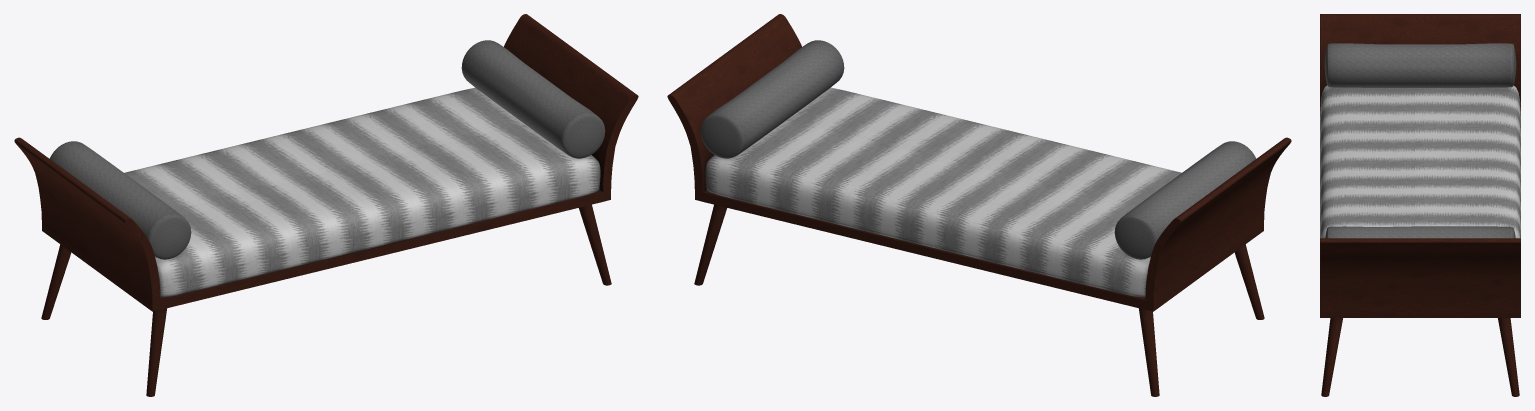
The model's file is sofa_3.glb.
3 views of the same model, side by side, from view 1: azimuth 30°, elevation 25°; view 2: azimuth 150°, elevation 25°; view 3: azimuth 270°, elevation 25° (orthographic). The views are drawn at different scales.
Visible parts, largest first — view 1: Cube.002, Cube.001, Cylinder, Cylinder.001; view 2: Cube.002, Cube.001, Cylinder, Cylinder.001; view 3: Cube.002, Cube.001, Cylinder, Cylinder.001.
Part boxes in pixels (x1,y1,x2,y2): Cube.002: (124,87,600,297); Cube.001: (14,14,638,311); Cylinder: (49,40,605,259); Cylinder.001: (41,204,611,396); Cube.002: (705,87,1181,297); Cube.001: (667,14,1291,311); Cylinder: (700,40,1256,259); Cylinder.001: (694,204,1264,396); Cube.002: (1320,85,1520,238); Cube.001: (1320,14,1520,317); Cylinder: (1324,43,1516,238); Cylinder.001: (1321,318,1519,396).
Size of the model in its own units: 1.64 by 0.5619 by 0.6109.
1 material, 1 textured.
